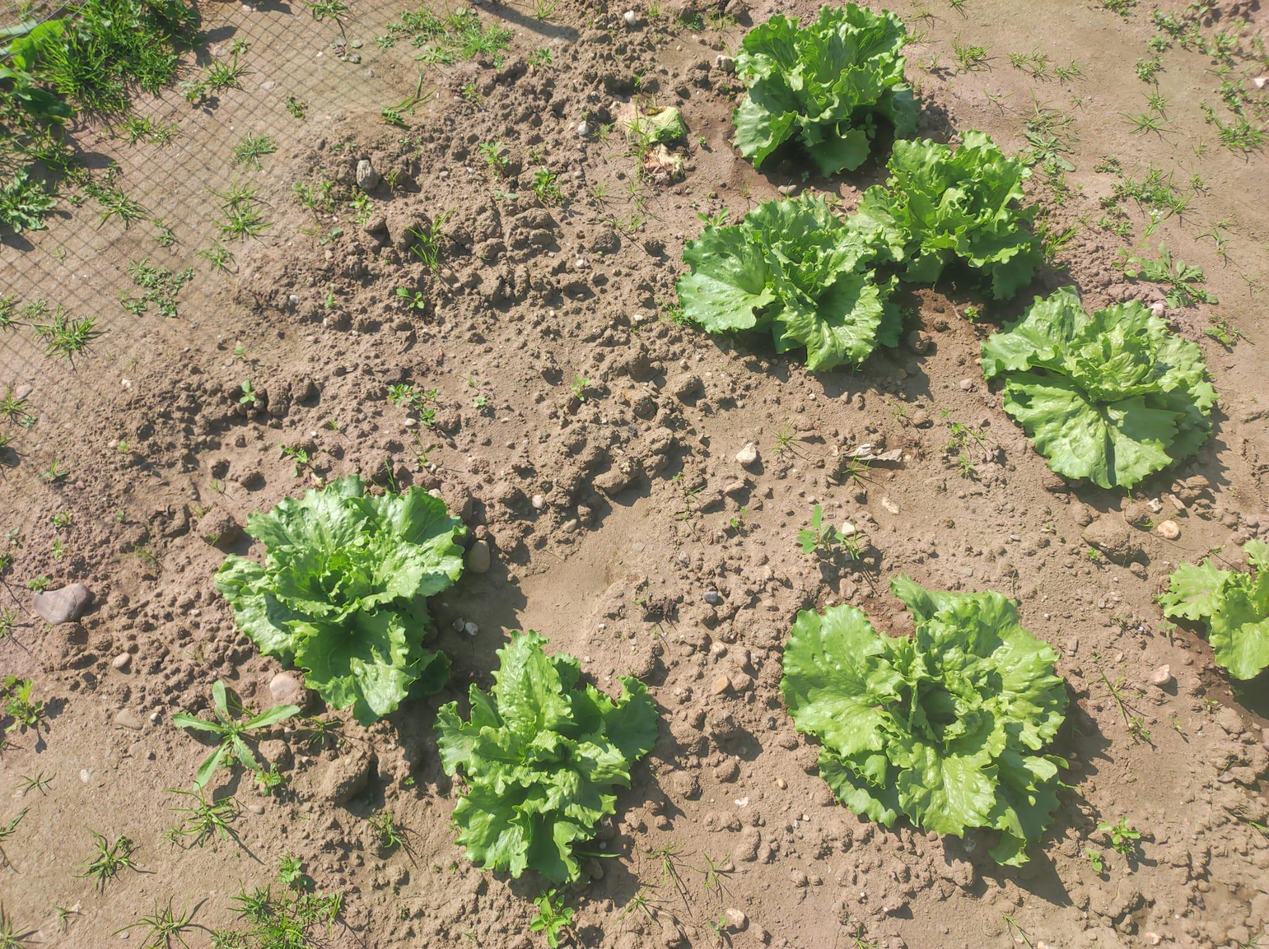Healthy: (781, 577, 1069, 866), (213, 474, 465, 726), (434, 631, 658, 886), (983, 287, 1219, 488), (677, 193, 904, 370), (734, 1, 920, 175), (856, 129, 1044, 298), (1161, 540, 1269, 680)
